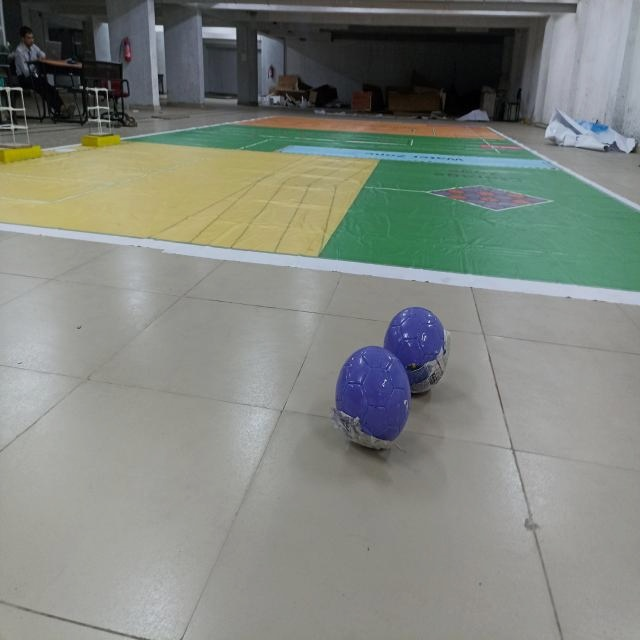purple_ball: (331, 342, 417, 459), (382, 294, 453, 392)
silo: (2, 78, 33, 166), (83, 81, 114, 142)
